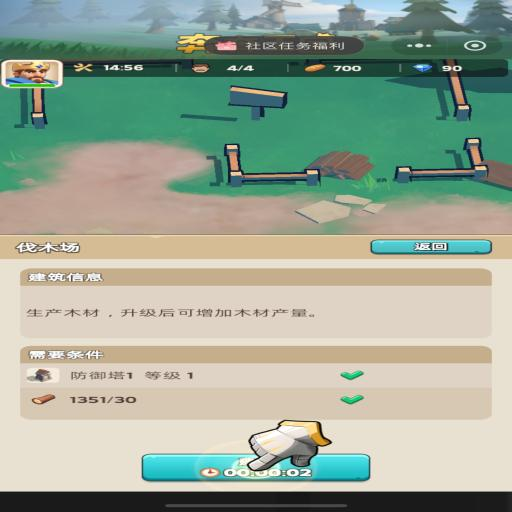newcomer_hand: (244, 419, 330, 469)
